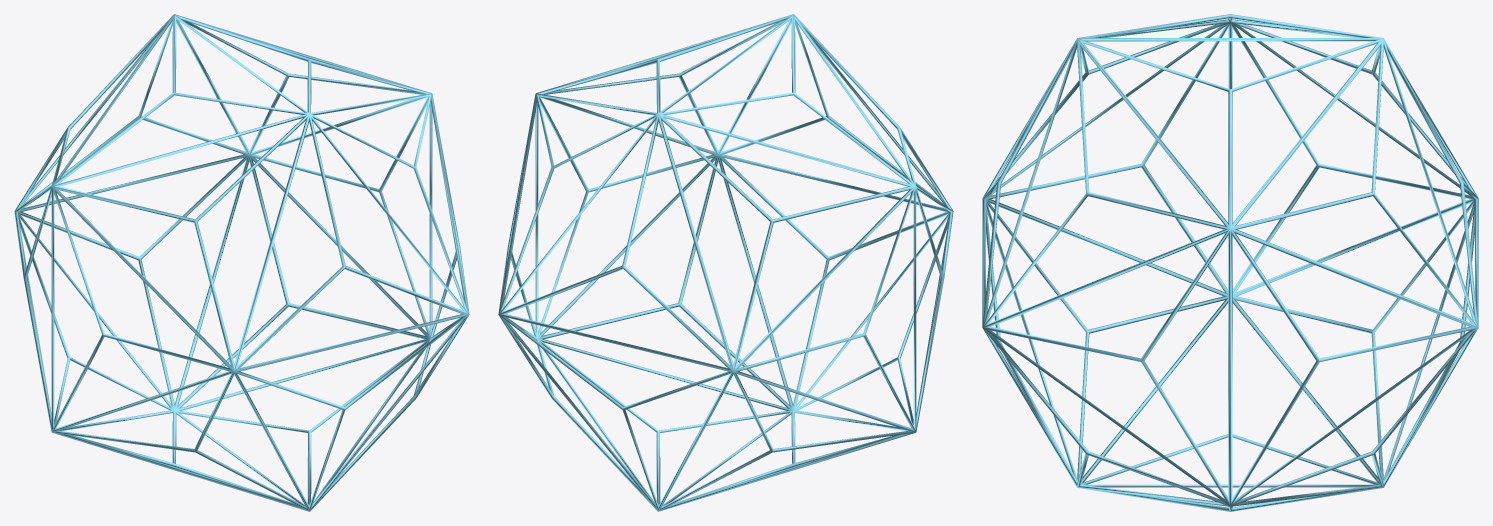
Rendered from TriakisIcosahedron1.glb.
3 renders of one model, left to right at view 1: azimuth 30°, elevation 25°; view 2: azimuth 150°, elevation 25°; view 3: azimuth 270°, elevation 25°, orthographic. The views are drawn at different scales.
Visible parts, largest first — view 1: TriakisIcosahedron; view 2: TriakisIcosahedron; view 3: TriakisIcosahedron.
Boxes of the visible parts, <box> form: TriakisIcosahedron: <box>14,14,469,511</box>; TriakisIcosahedron: <box>498,14,953,511</box>; TriakisIcosahedron: <box>982,14,1478,511</box>.
Bounding box in the file's own units: 5.9 × 5.9 × 5.9.
